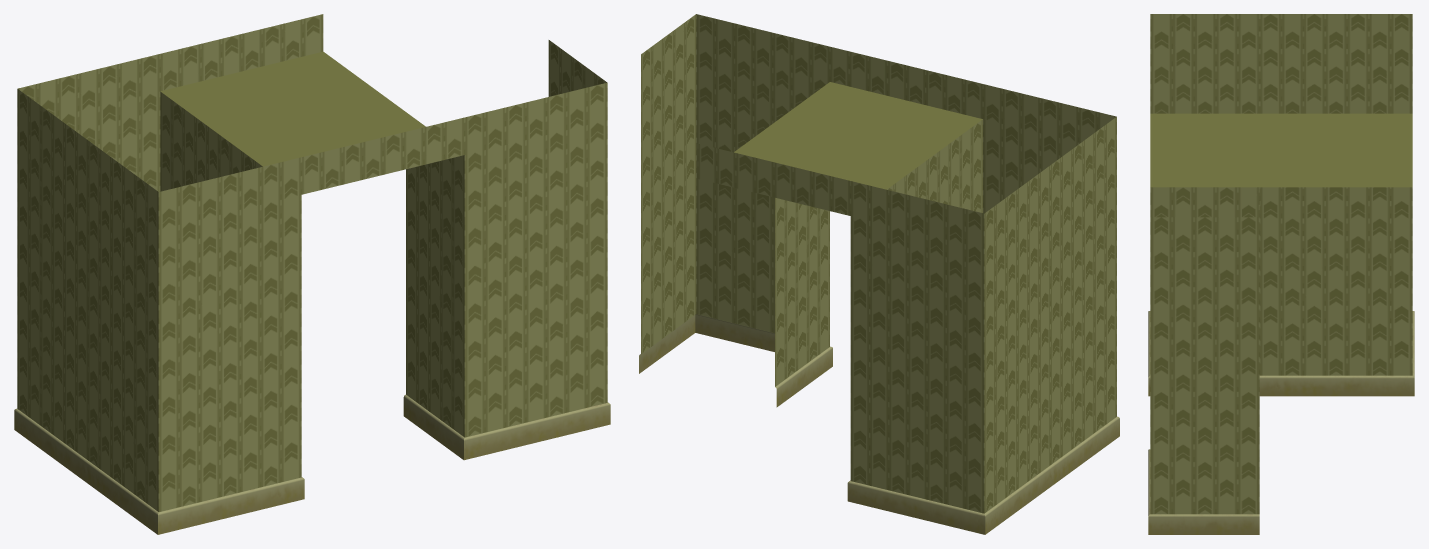
File: WallBottomFatWithHoleCutLeft.fbx
The picture shows the model from 3 angles, left to right: view 1: azimuth 30°, elevation 25°; view 2: azimuth 150°, elevation 25°; view 3: azimuth 270°, elevation 25°; orthographic projection. The views are drawn at different scales.
Visible parts, largest first — view 1: WallBottomFatWithHoleCutLeft; view 2: WallBottomFatWithHoleCutLeft; view 3: WallBottomFatWithHoleCutLeft.
Part boxes in pixels (<box>): WallBottomFatWithHoleCutLeft: <box>14,14,610,534</box>; WallBottomFatWithHoleCutLeft: <box>639,14,1119,534</box>; WallBottomFatWithHoleCutLeft: <box>1148,14,1414,534</box>.
Bounding box in the file's own units: 555 × 400 × 305.
